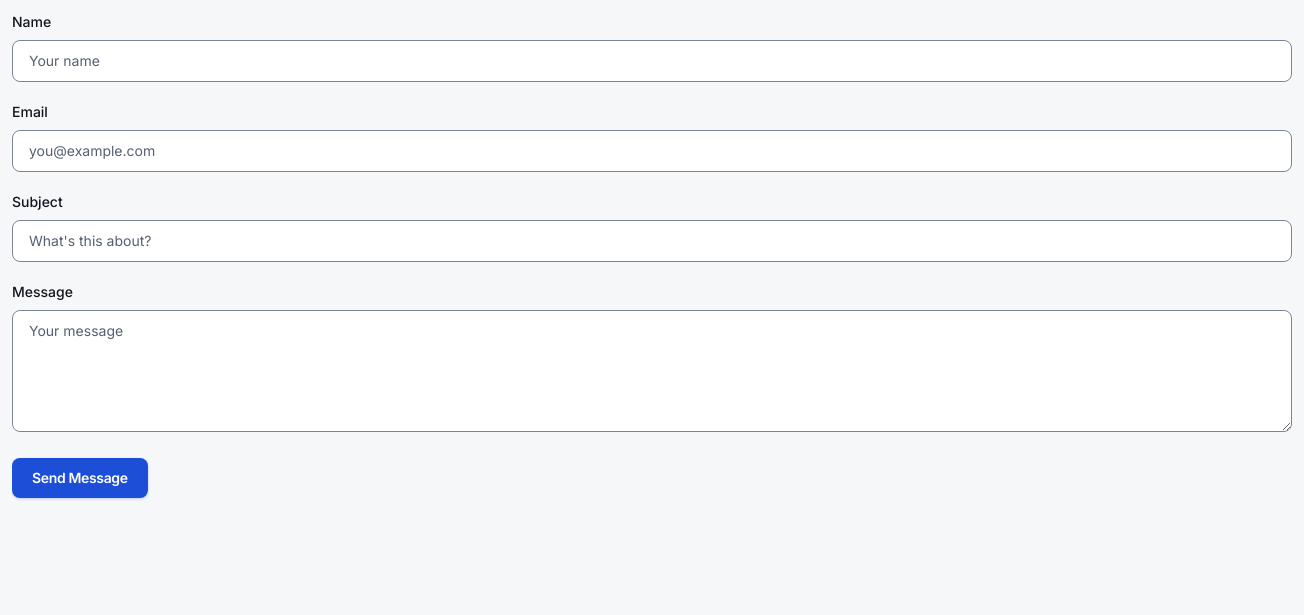
Test: ContactForm › shows a validation error for each required field left empty on submit
Click the button "Send Message" at [80, 478], box [12,458,148,498]
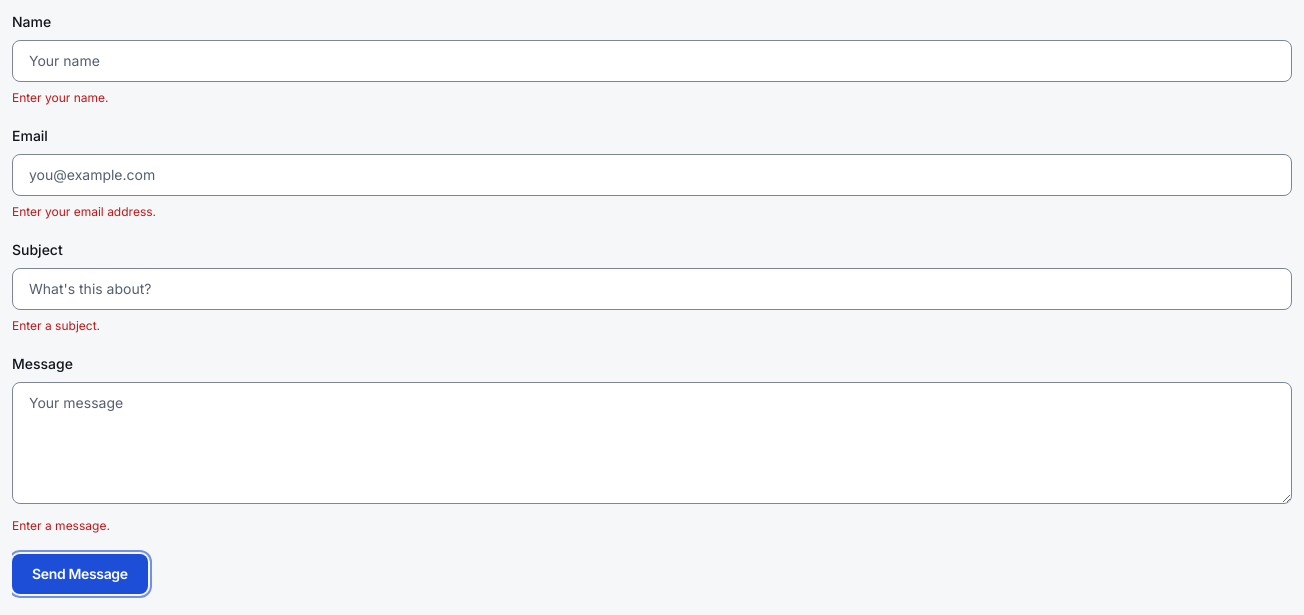
Check: the text "Enter your name." is shown, box [12,90,108,105]
Check: the text "Enter your email address." is shown, box [12,204,156,219]
Check: the text "Enter a subject." is shown, box [12,318,100,333]
